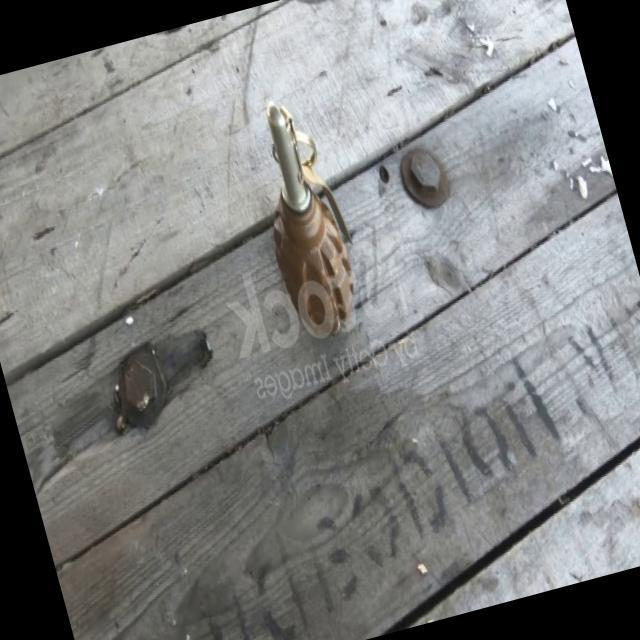grenade: (236, 93, 376, 349)
